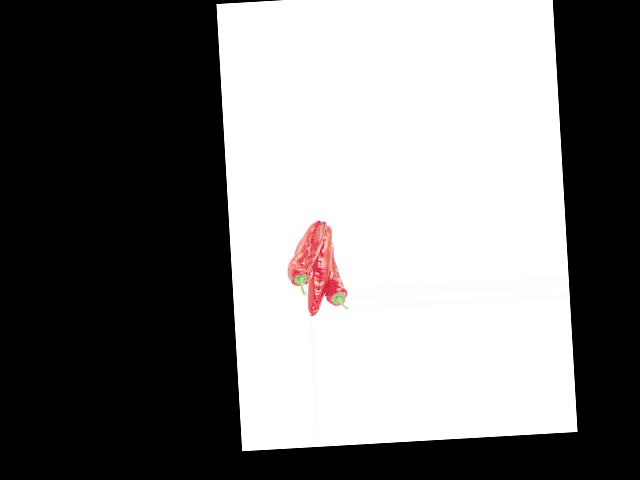bell_pepper: (283, 220, 321, 298)
